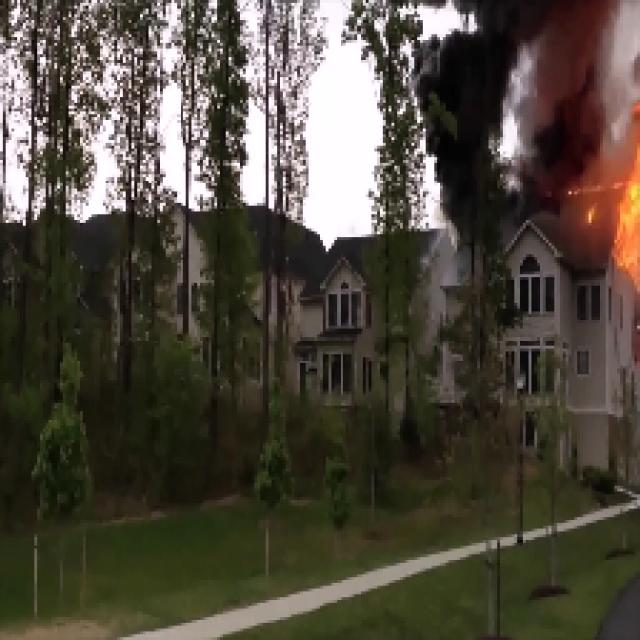fire: (607, 88, 640, 308)
smoke: (432, 15, 608, 187)
